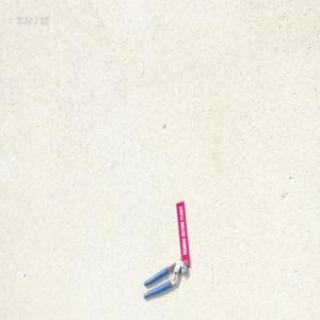LuggageTagtrack_idkeyframe: (176, 200, 190, 266)
Pliertrack_idkeyframe: (142, 258, 187, 298)
